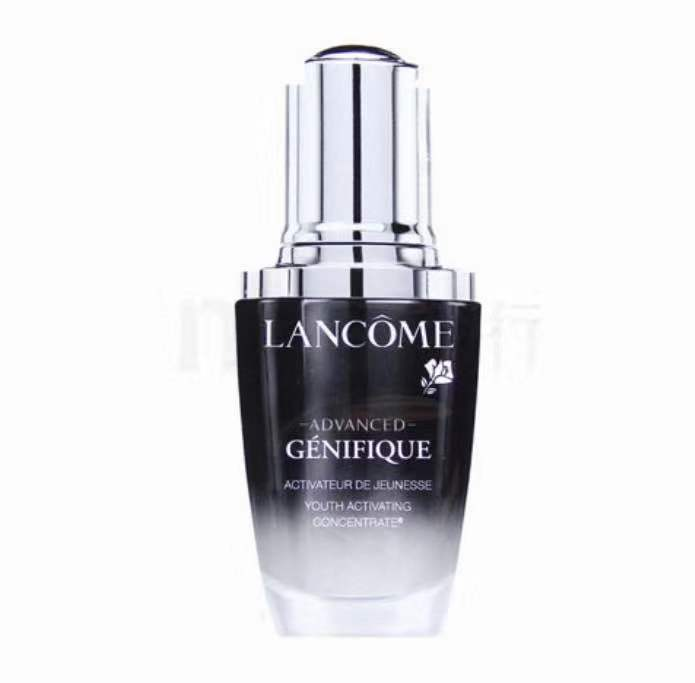cosmetic: (236, 42, 484, 643)
